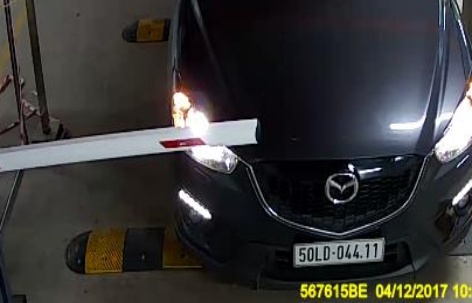plate: (287, 233, 389, 269)
